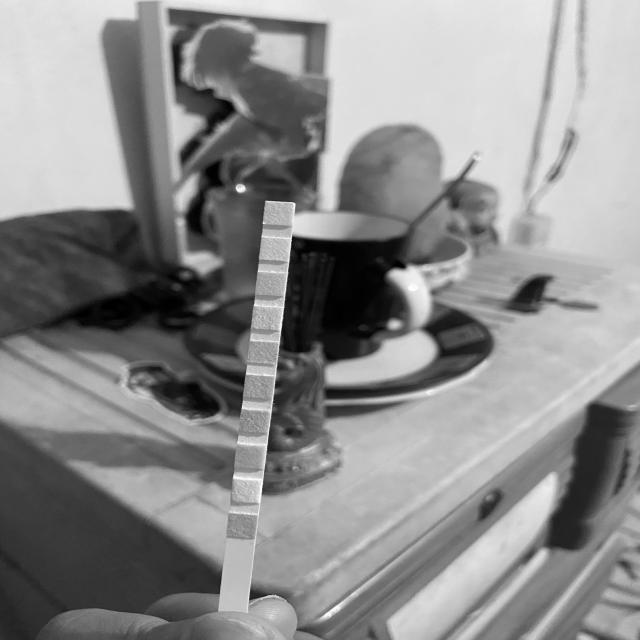Bilirubin: (234, 481, 258, 501)
Blood: (246, 378, 272, 397)
Glucose: (230, 516, 254, 535)
Ketone: (238, 446, 266, 466)
Leukocytes: (266, 203, 292, 224)
Nitrite: (262, 239, 288, 259)
Protein: (254, 308, 282, 328)
SpGravity: (242, 412, 269, 431)
Urobilinogen: (258, 274, 285, 294)
background: (0, 0, 640, 640)
pH: (250, 342, 277, 362)
strip: (219, 201, 295, 613)
